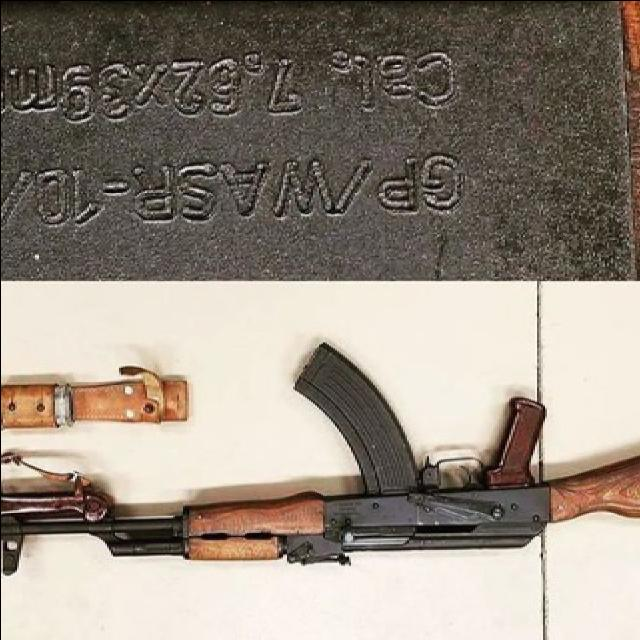rifle: (3, 349, 640, 590)
